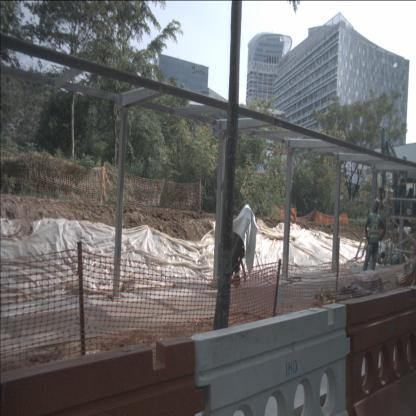barrier: (191, 302, 351, 415), (0, 335, 206, 415), (338, 288, 416, 416)
